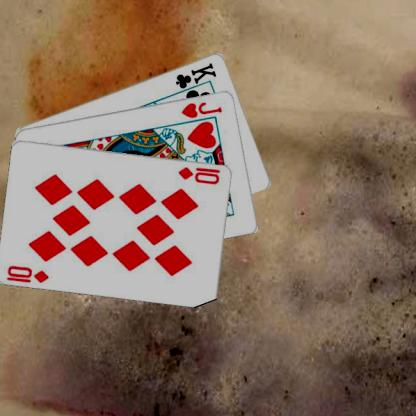10D: (4, 262, 50, 284), (176, 164, 221, 186)
JH: (178, 99, 224, 119)
KC: (172, 60, 218, 96)
